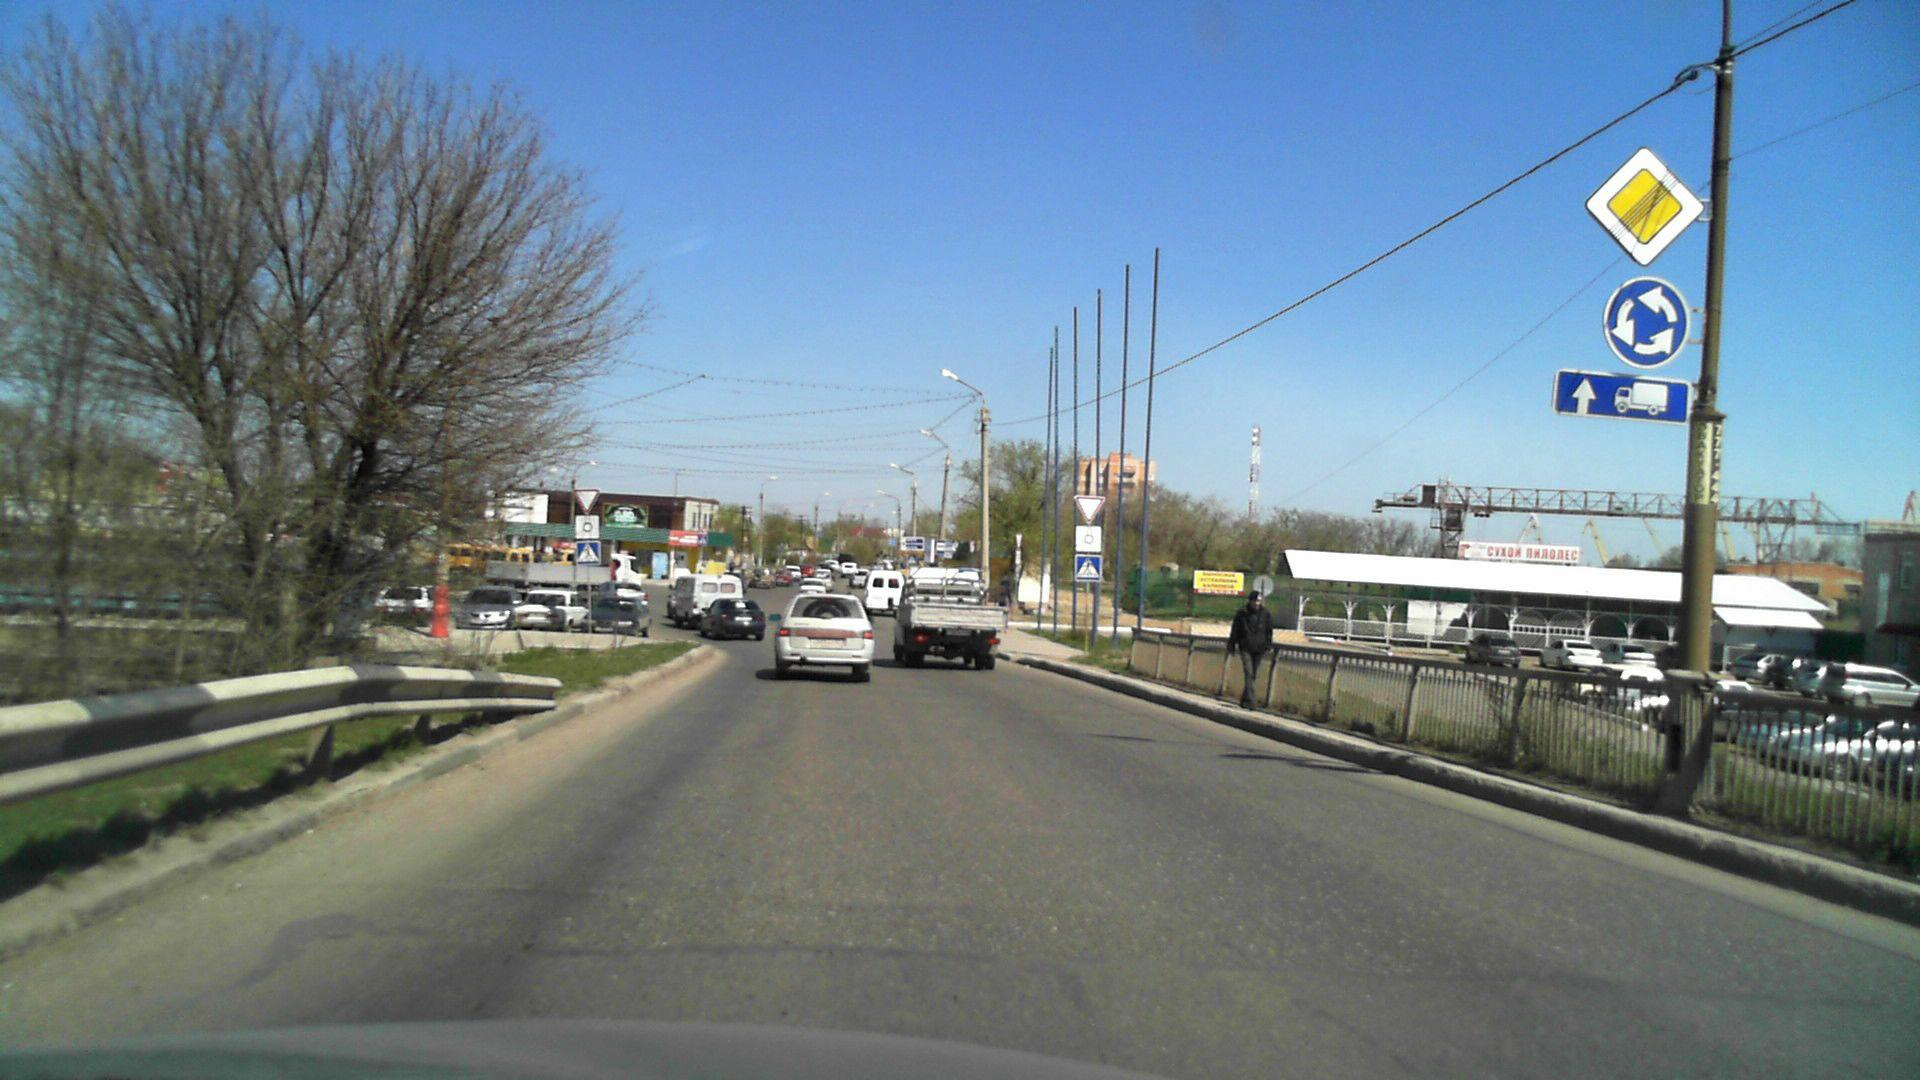2_2: (1581, 146, 1704, 268)
2_4: (1075, 495, 1105, 524), (574, 487, 600, 514)
4_3: (1604, 276, 1692, 371)
5_16: (936, 541, 944, 555)
5_19_1: (1073, 554, 1104, 583)
5_19_2: (574, 541, 601, 566)
6_10_1: (899, 534, 927, 553)
6_15_1: (1552, 367, 1689, 427)
8_13: (1073, 524, 1105, 554), (575, 516, 599, 539)
